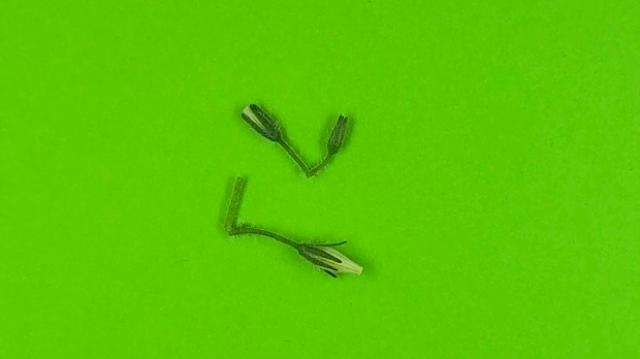Flower Bud: (298, 243, 363, 279), (240, 103, 281, 141), (326, 114, 349, 155), (322, 268, 339, 278)
